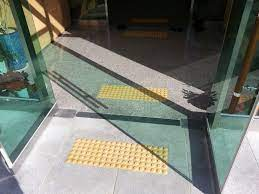guide_blocks: (67, 136, 168, 175), (96, 83, 168, 102), (120, 30, 168, 40)
